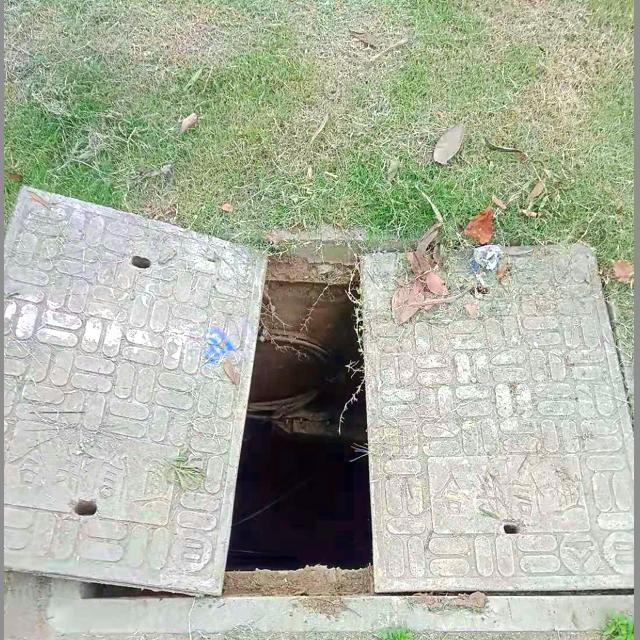uncovered: (4, 182, 625, 625)
